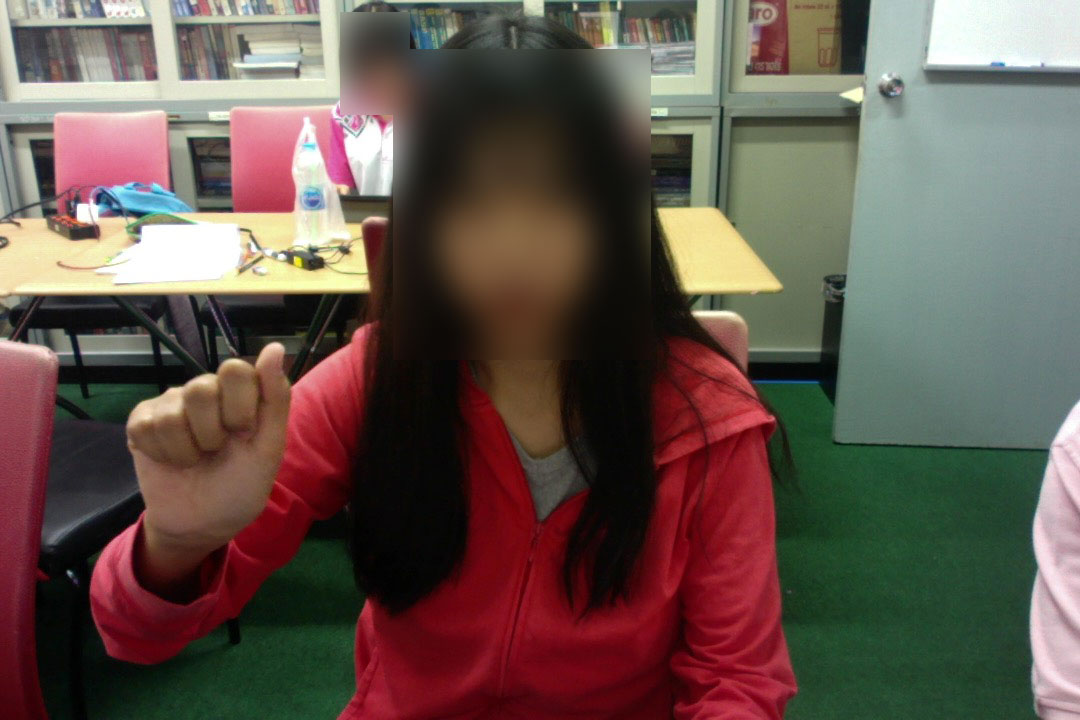or: (116, 336, 303, 562)
